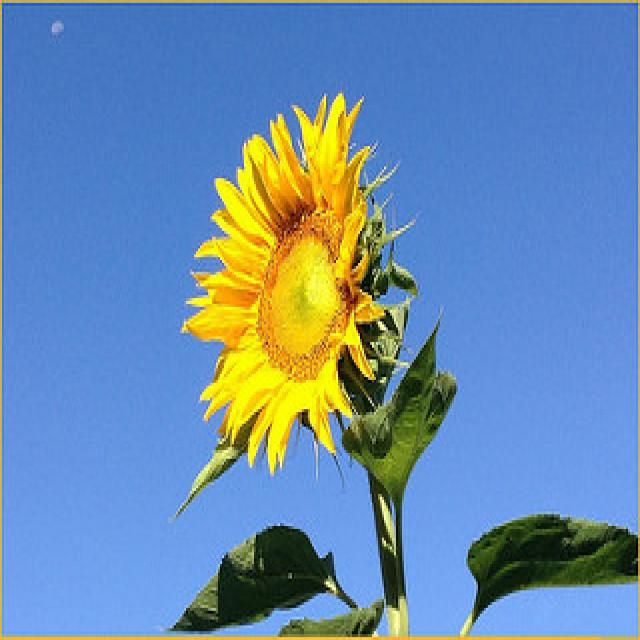sunflower: (173, 84, 421, 498)
